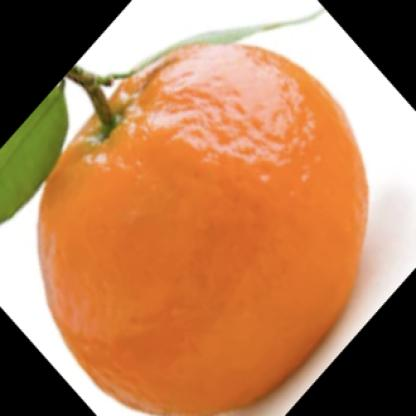fresh: (37, 36, 371, 416)
